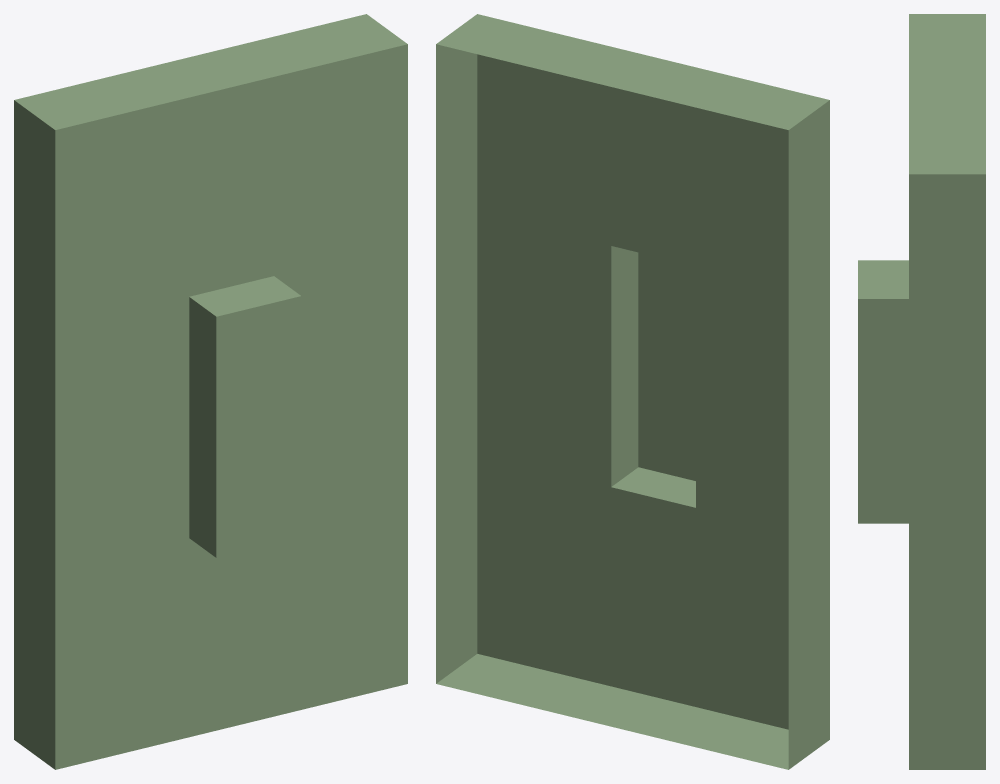
Rendered from Switch.fbx.
3 views of the same model, side by side, from view 1: azimuth 30°, elevation 25°; view 2: azimuth 150°, elevation 25°; view 3: azimuth 270°, elevation 25° (orthographic). The views are drawn at different scales.
Parts seen in each view (by area): view 1: Switch; view 2: Switch; view 3: Switch.
Part boxes in pixels (box(x1,y1,x2,y2)): Switch: box(14, 14, 407, 769); Switch: box(436, 14, 829, 769); Switch: box(858, 14, 985, 769).
Size of the model in its own units: 10.42 by 18.06 by 3.51.
